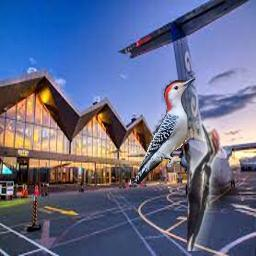Woodpecker: (131, 76, 196, 184), (187, 121, 221, 251)
